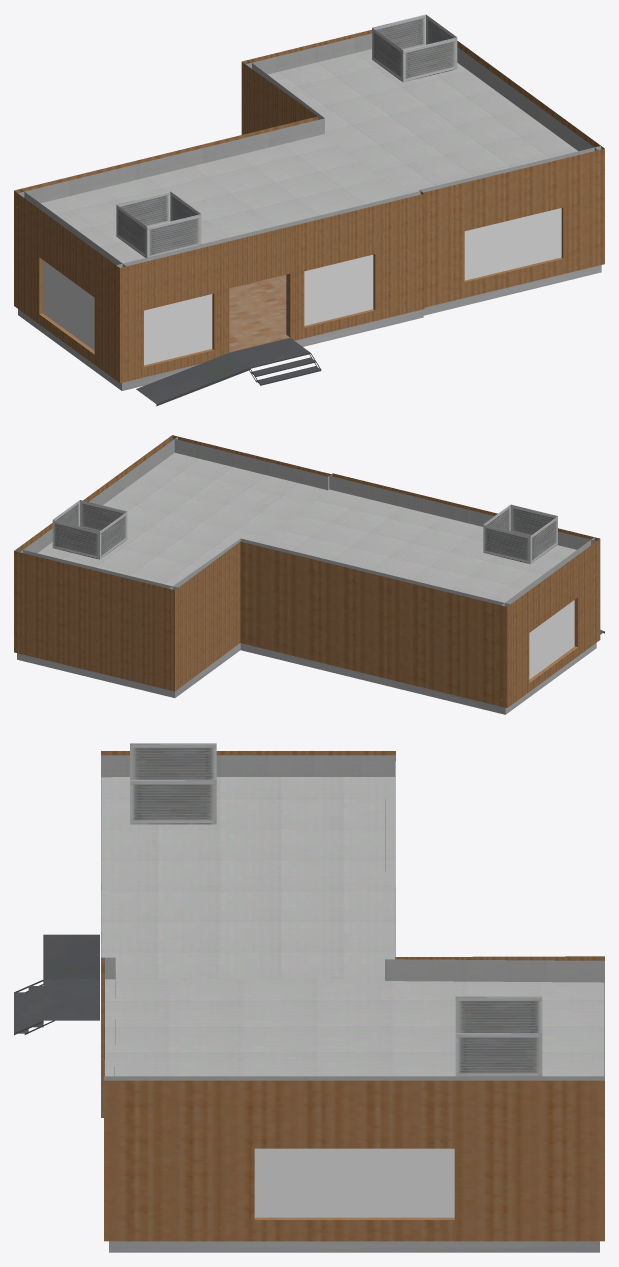
The model's file is KjiwiV2.glb.
3 renders of one model, top to bottom at view 1: azimuth 30°, elevation 25°; view 2: azimuth 150°, elevation 25°; view 3: azimuth 270°, elevation 25°, orthographic. The views are drawn at different scales.
Visible parts, largest first — view 1: Kjiwiv2, Vindu, Trapp; view 2: Kjiwiv2, Vindu; view 3: Kjiwiv2, Vindu, Trapp.
Part boxes in pixels (bbox=[...]): Kjiwiv2: bbox=[14, 14, 604, 390]; Vindu: bbox=[43, 208, 561, 365]; Trapp: bbox=[136, 338, 321, 406]; Kjiwiv2: bbox=[14, 435, 600, 714]; Vindu: bbox=[529, 600, 574, 679]; Kjiwiv2: bbox=[101, 743, 604, 1252]; Vindu: bbox=[254, 1148, 454, 1217]; Trapp: bbox=[14, 934, 99, 1034].
Size of the model in its own units: 18.02 by 5.35 by 13.65.
Materials: 2 (1 with a texture image).
